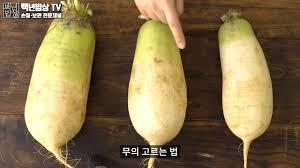radish: (12, 0, 46, 44), (59, 5, 89, 39), (101, 3, 129, 38)
